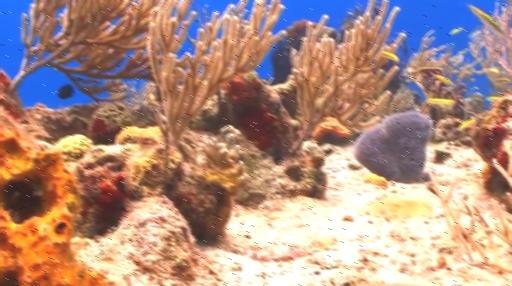Fish: (468, 5, 504, 36), (58, 84, 75, 99), (380, 51, 399, 62), (459, 117, 475, 129), (428, 98, 455, 104), (434, 75, 452, 84), (450, 27, 463, 34), (495, 78, 510, 84), (487, 67, 499, 74), (488, 96, 501, 101), (474, 86, 478, 89)
